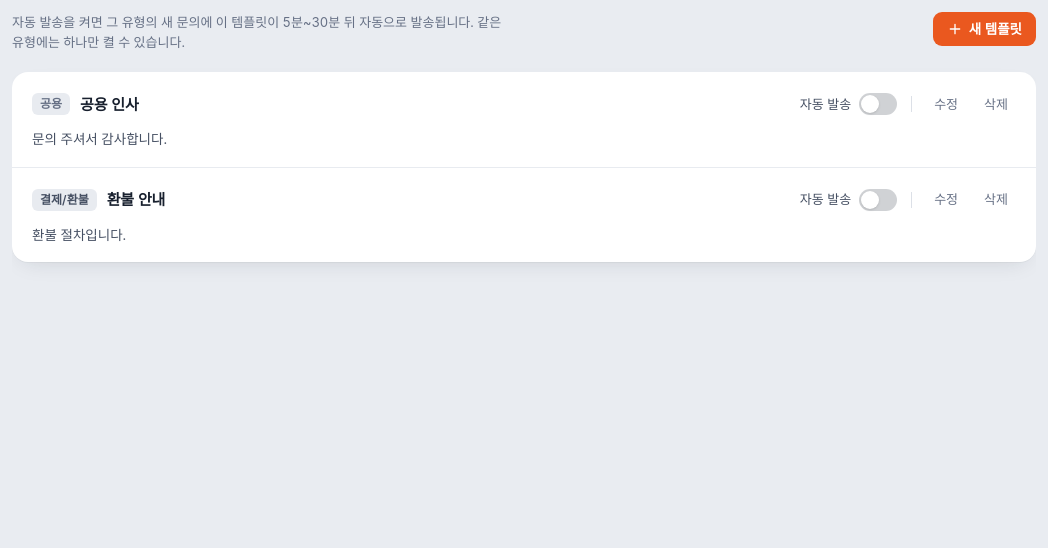
TemplateManager › does not save an edit with a blank title and shows an error when saving fails
Click the button "수정" in the row of "환불 안내" at (946, 200), box [926, 184, 966, 216]
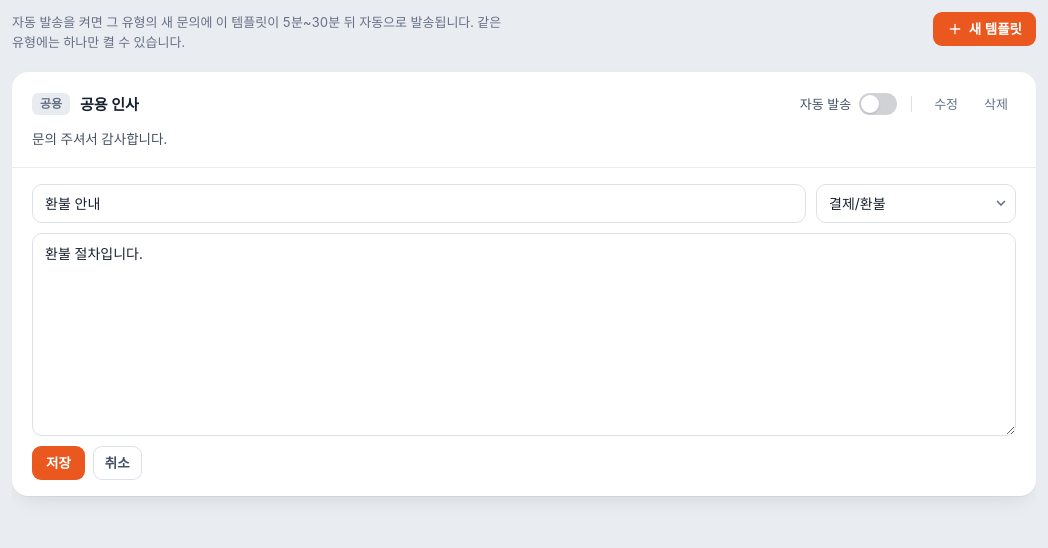
Clear the field named "템플릿 제목" at (419, 203), box [32, 184, 806, 223]
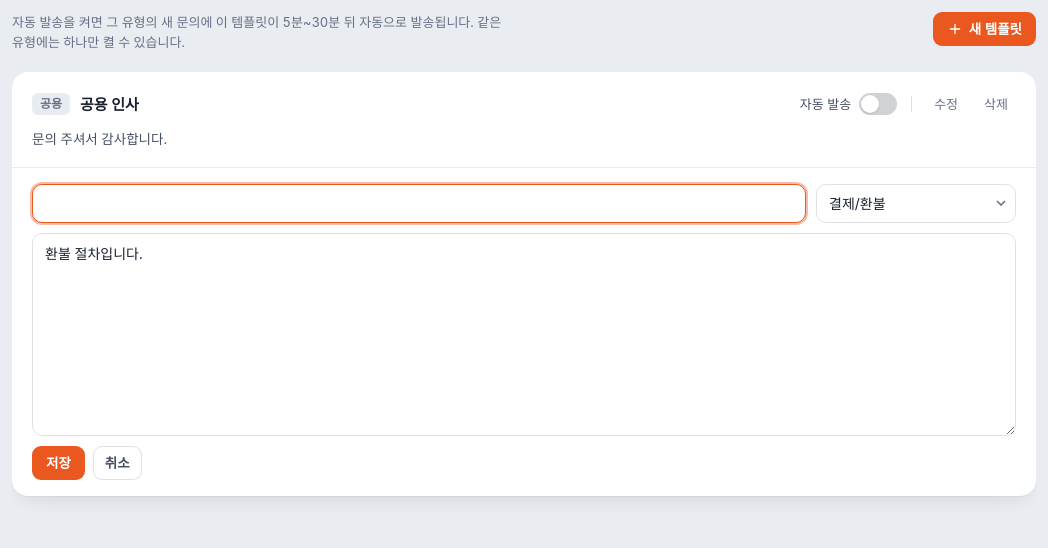
Click the button "저장" at (58, 463), box [32, 446, 85, 480]
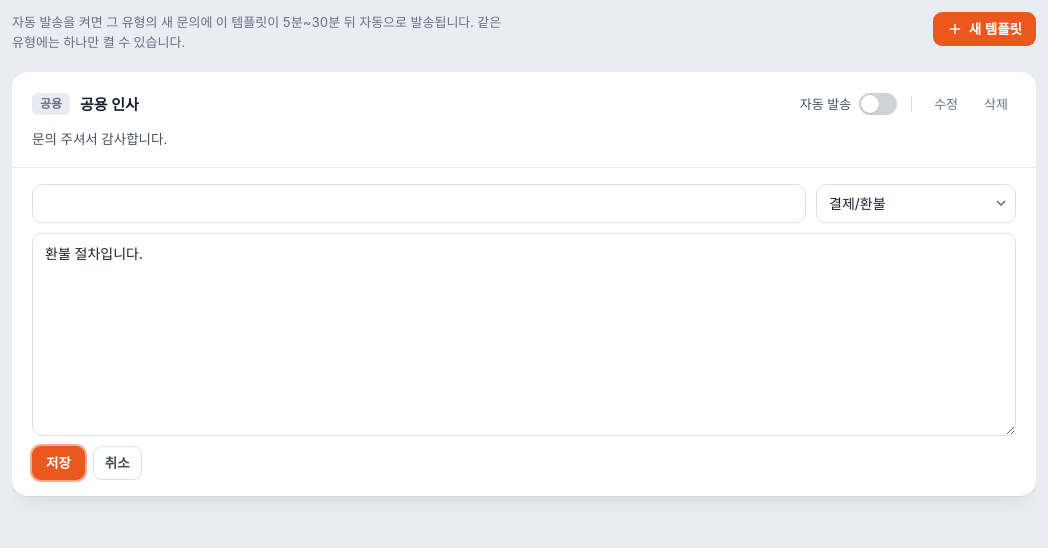
Type "제목" into the field named "템플릿 제목" at (419, 203), box [32, 184, 806, 223]
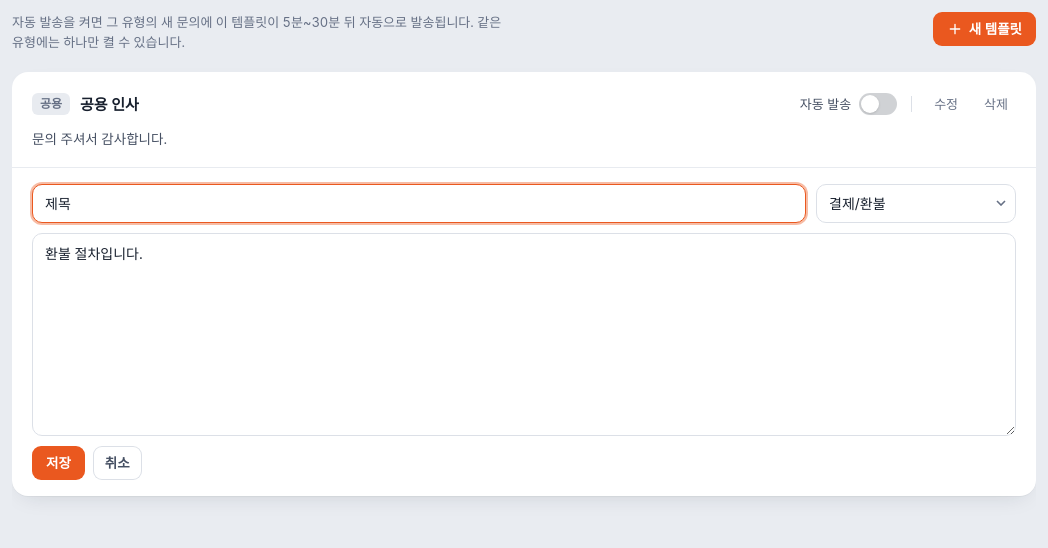
Click the button "저장" at (58, 463), box [32, 446, 85, 480]
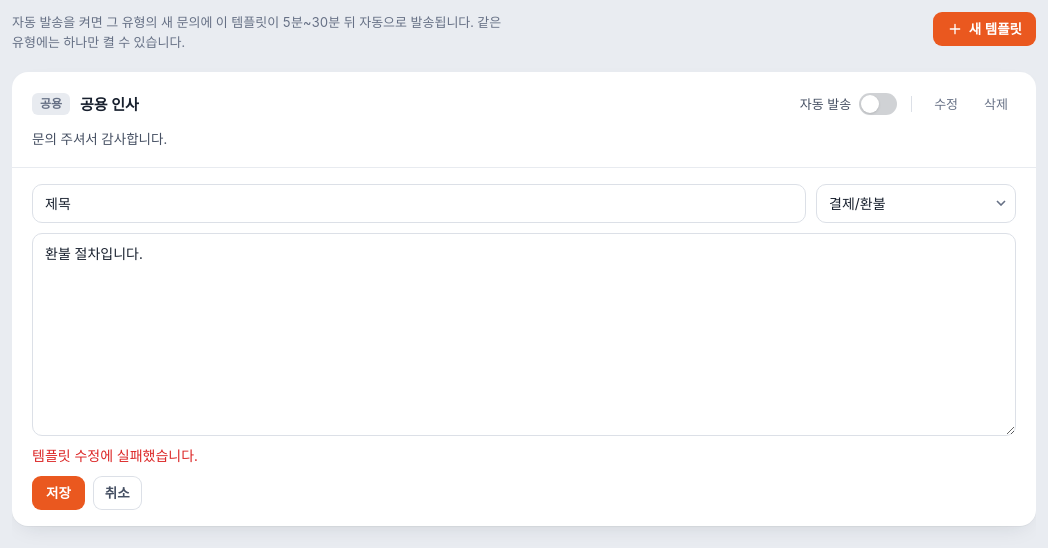
Expected: the text "템플릿 수정에 실패했습니다." is shown, [32, 447, 198, 464]
